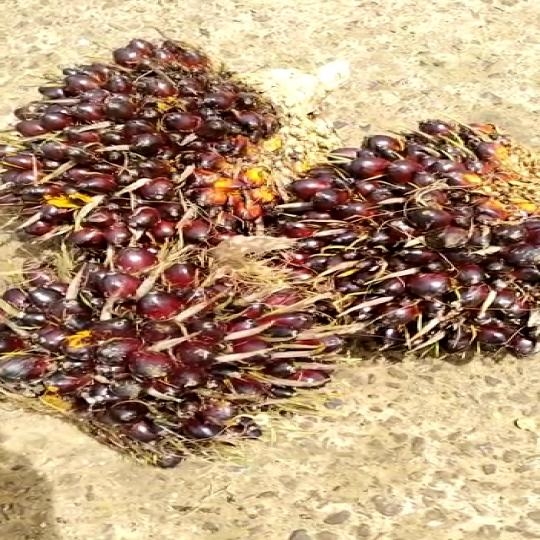kurang masak: (3, 238, 338, 459), (287, 116, 540, 382), (1, 36, 303, 247)
